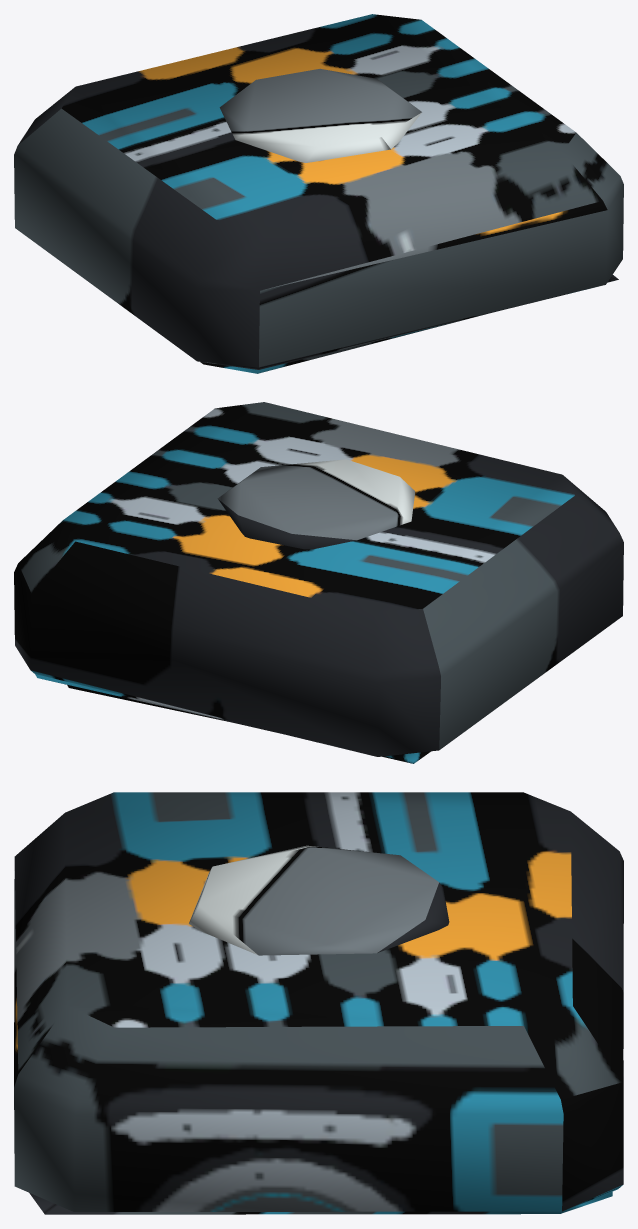
Rendered from S07_Lid_LOD3.obj.
The picture shows the model from 3 angles, top to bottom: view 1: azimuth 30°, elevation 25°; view 2: azimuth 150°, elevation 25°; view 3: azimuth 270°, elevation 25°; orthographic projection. The views are drawn at different scales.
Visible parts, largest first — view 1: S07_Lid_LOD3.001; view 2: S07_Lid_LOD3.001; view 3: S07_Lid_LOD3.001.
Boxes of the visible parts, left/top/right/bottom form: S07_Lid_LOD3.001: left=14, top=14, right=623, bottom=373; S07_Lid_LOD3.001: left=14, top=402, right=623, bottom=763; S07_Lid_LOD3.001: left=14, top=792, right=623, bottom=1214.
Bounding box in the file's own units: 1.12 × 0.3972 × 1.04.
